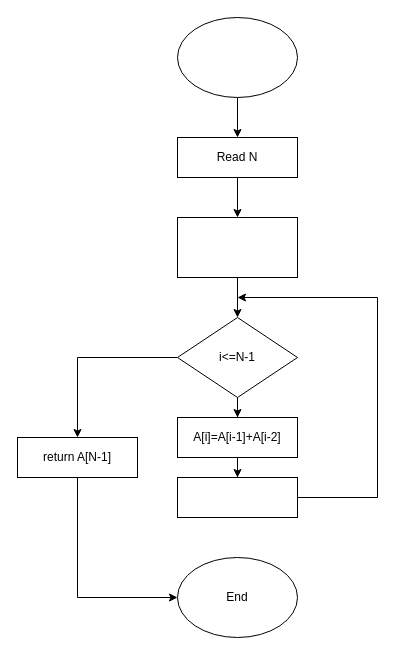
This 403x655 diagram has some shape labels left out. Each missing label, with the centre of its shape:
Begin: point 237,57
F[0]=0 F[1]=0 i=2: point 237,247
i=i+1: point 237,497
